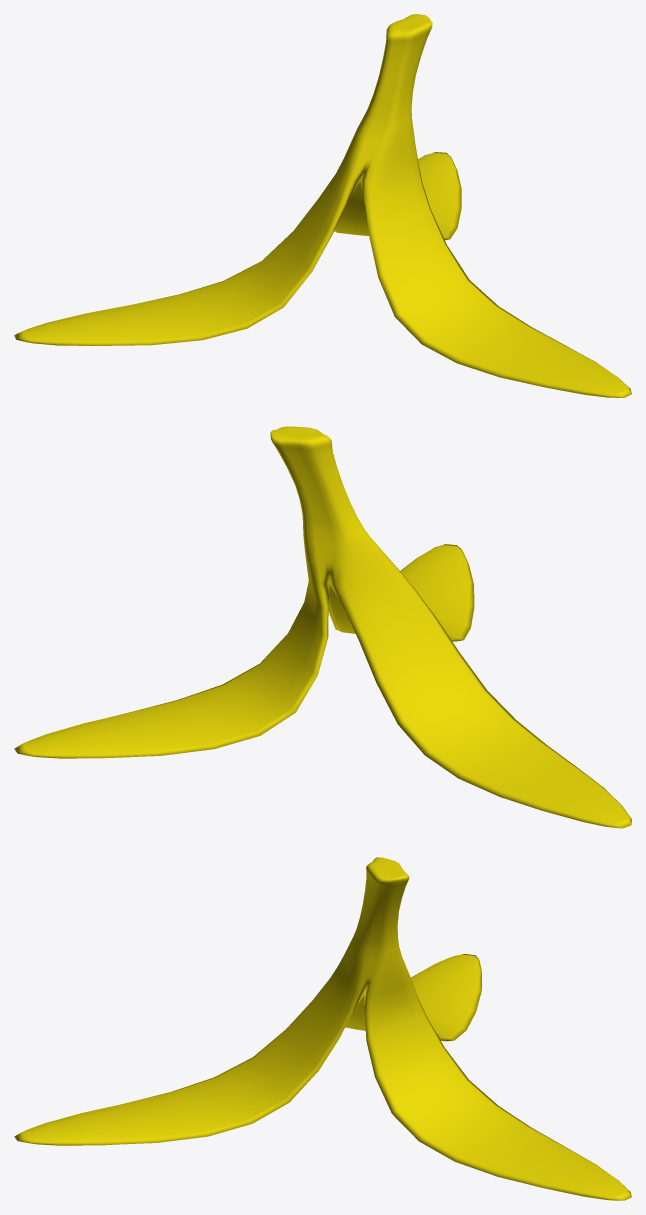
File: Banana.fbx
3 renders of one model, top to bottom at view 1: azimuth 30°, elevation 25°; view 2: azimuth 150°, elevation 25°; view 3: azimuth 270°, elevation 25°, orthographic. The views are drawn at different scales.
Visible parts, largest first — view 1: Banana; view 2: Banana; view 3: Banana.
Part boxes in pixels (x1,y1,x2,y2): Banana: [14, 14, 631, 397]; Banana: [14, 426, 631, 828]; Banana: [14, 857, 631, 1200].
Bounding box in the file's own units: 138 × 67.61 × 143.
